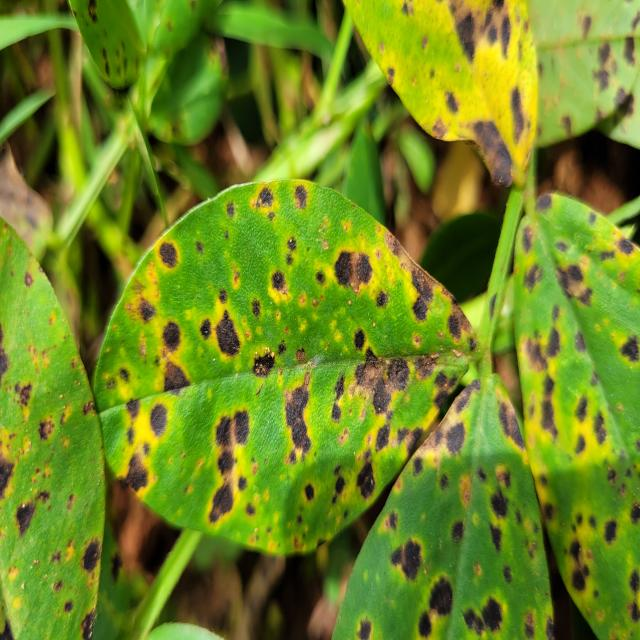Ground nut_tikka leaf spot: (87, 167, 481, 567)
